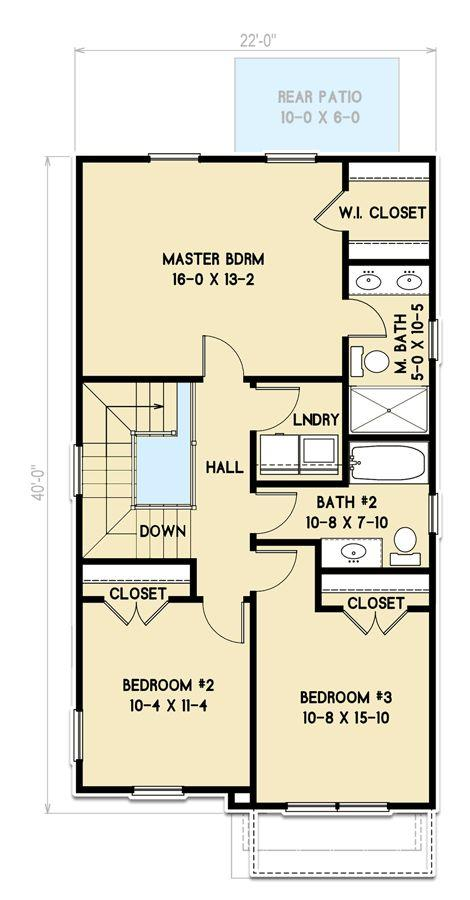room: (81, 160, 343, 378), (256, 607, 431, 807), (76, 598, 252, 791), (251, 434, 433, 571), (345, 263, 434, 437), (252, 380, 346, 483), (345, 161, 430, 261)
